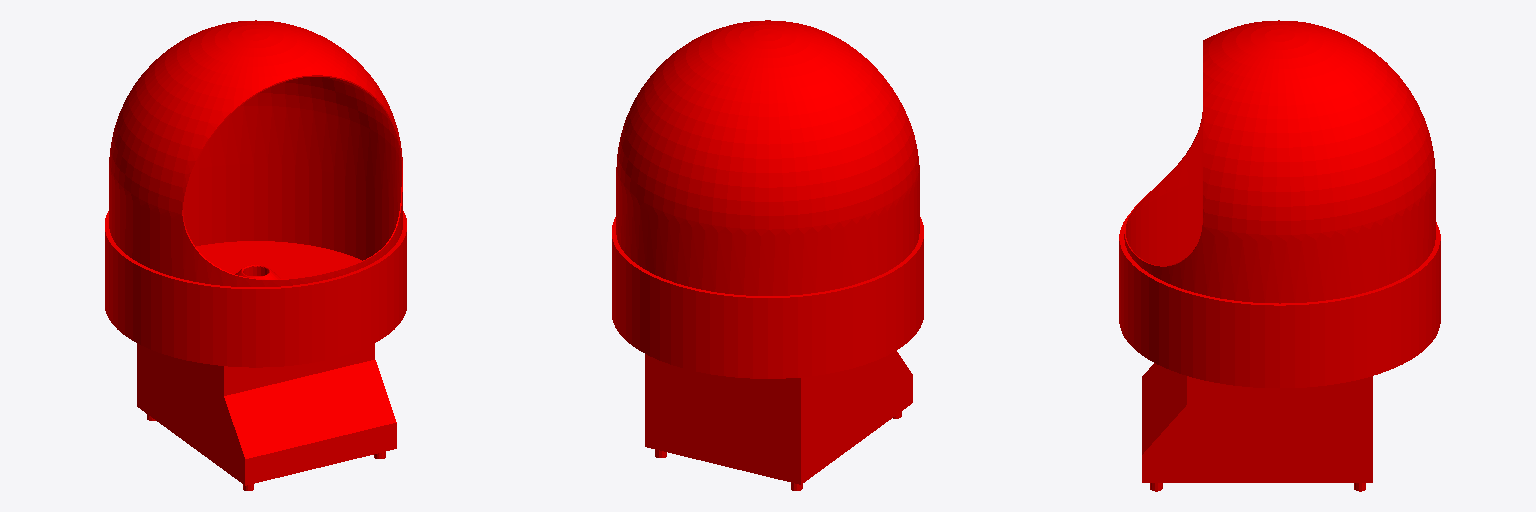
URDF robot description (CandyFlossMaker):
<?xml version="1.0" ?>
<robot name="CandyFlossMaker">
<link name="world"/>
<joint name="fixed" type="fixed">
  <parent link="world"/>
  <child  link="base_link"/>
</joint>

<link name="base_link">
  <inertial>
    <origin rpy="1.5708 0 0" xyz="0.0 0.0 0.0"/>
    <mass value="100.0"/>
    <inertia ixx="10.0" ixy="0.0" ixz="0.0" iyy="10.0" iyz="0.0" izz="10.0"/>
  </inertial>
  <visual>
    <origin rpy="1.5708 0 0" xyz="0 0 0"/>
    <geometry>
      <mesh filename="package://candy_floss/models/CandyFlossMaker.stl" scale="0.001 0.001 0.001"/>
    </geometry>
    <material name="silver">
      <color rgba="1 0 0 1"/>
    </material>
  </visual>
  <collision>
    <origin rpy="1.5708 0 0" xyz="0 0 0"/>
    <geometry>
      <mesh filename="package://candy_floss/models/CandyFlossMaker.stl"/>
    </geometry>
  </collision>
</link>
</robot>

--- Facts derived from the render (not from the file) ---
3 views of the same robot in one strip: view 1: azimuth 30°, elevation 25°; view 2: azimuth 150°, elevation 25°; view 3: azimuth 270°, elevation 25° (orthographic).
Robot: CandyFlossMaker — 2 links, 1 joints (1 fixed); root link world; default pose: every joint at zero.
Visible links, largest first — view 1: base_link; view 2: base_link; view 3: base_link.
Link boxes in pixels (x1,y1,x2,y2): base_link: [105, 20, 406, 490]; base_link: [612, 20, 923, 490]; base_link: [1119, 20, 1440, 491].
Bounding box of the posed robot: 0.52 × 0.5194 × 0.75 m (x, y, z).
1 mesh visuals loaded from 1 distinct referenced files (1 binary STL).